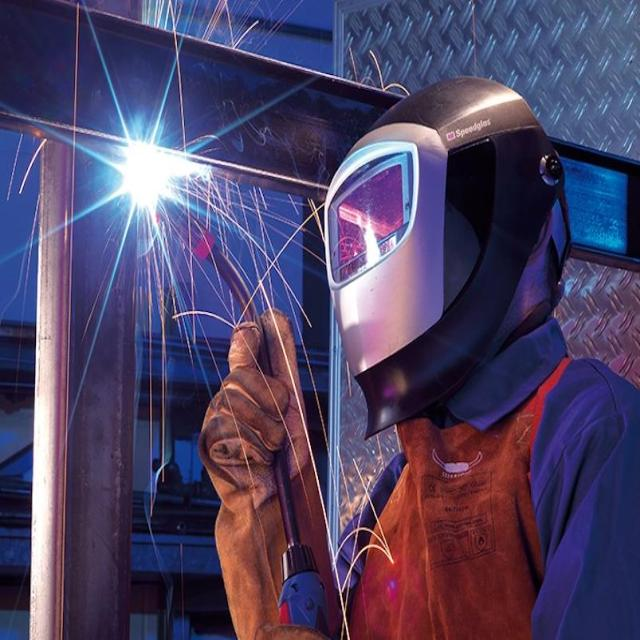welding: (118, 138, 172, 211)
